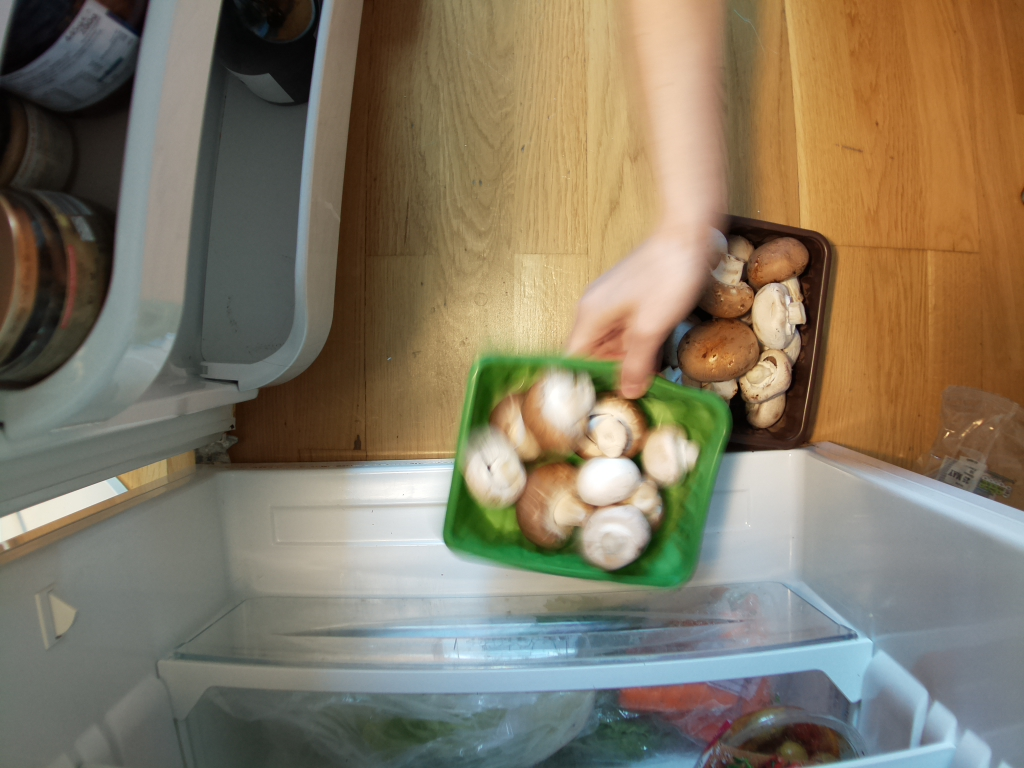mushrooms: (452, 353, 729, 576), (655, 218, 829, 439)
